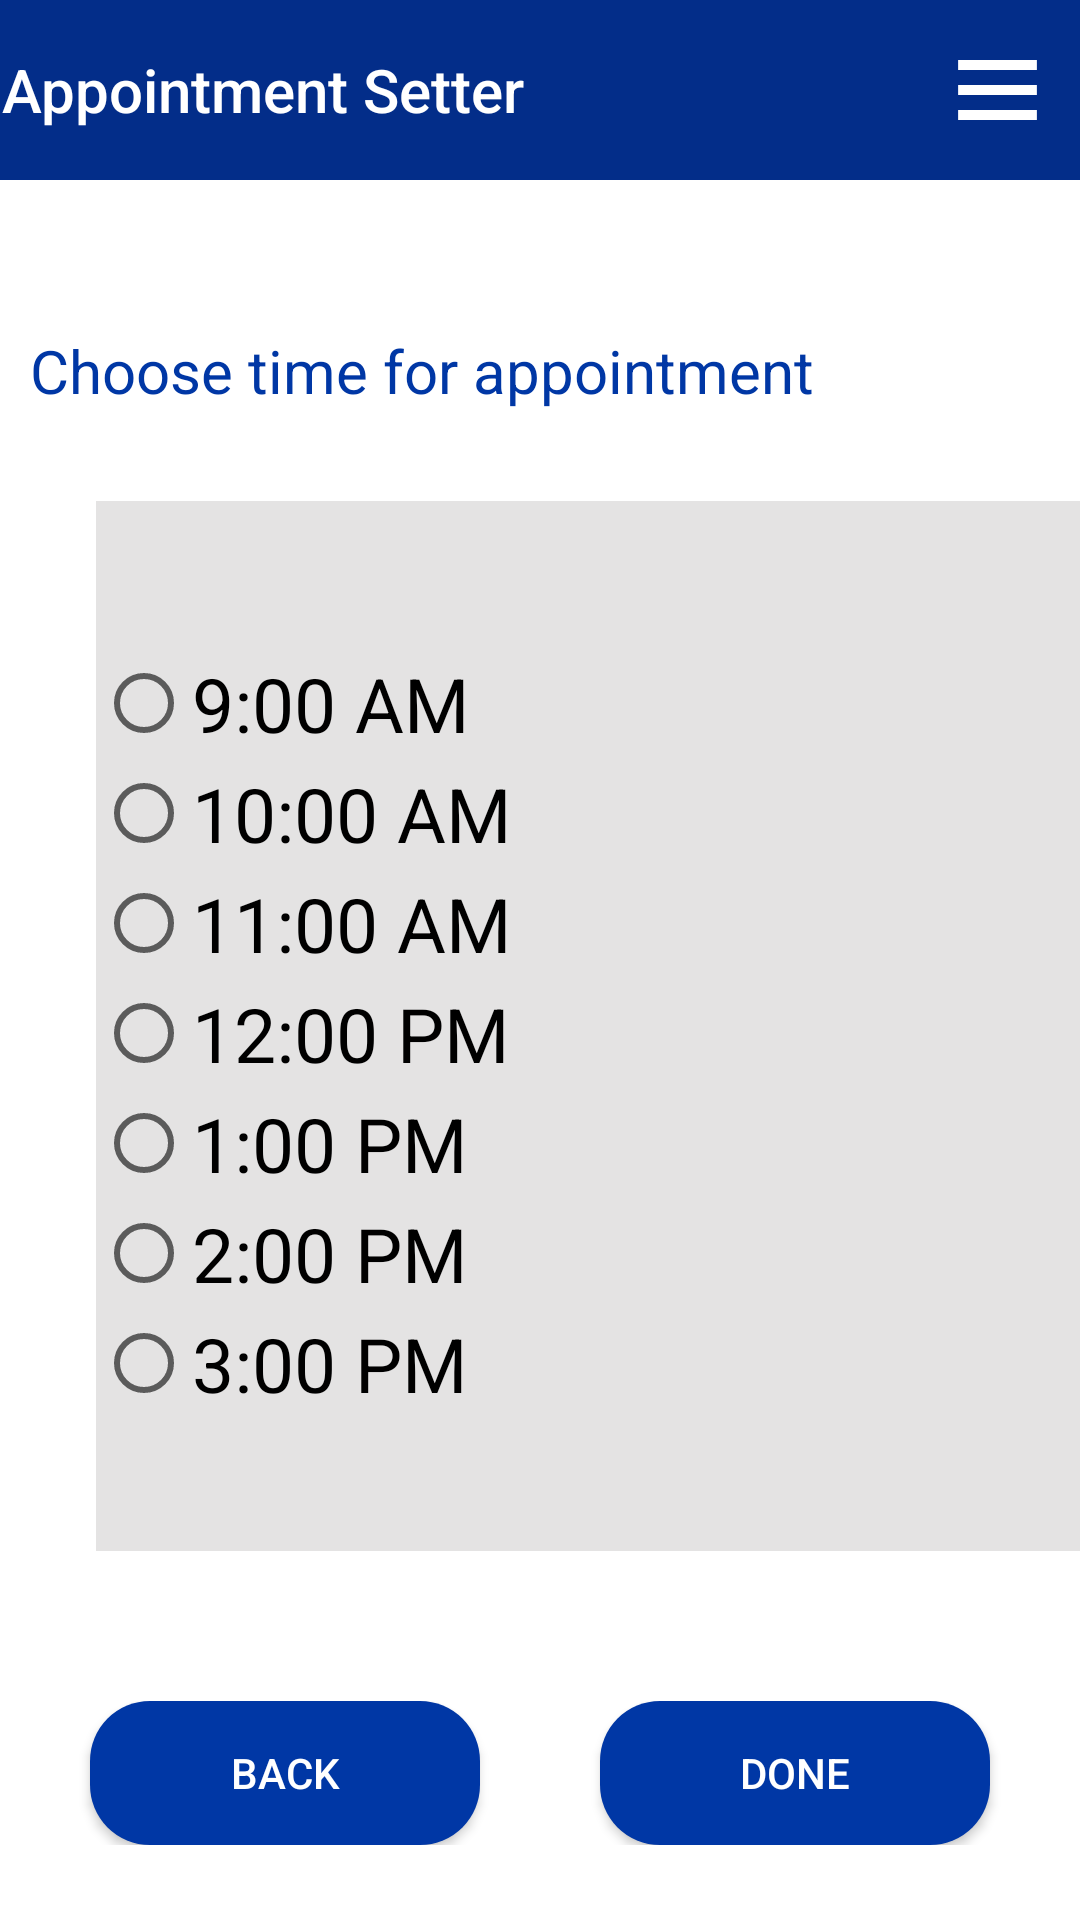

Named icons in this screenshot (1080 x 1920) and their bounding boxes, {"x1": x1, "y1": y1, "x2": x2, "y2": y2}:
menu: {"x1": 958, "y1": 60, "x2": 1037, "y2": 120}
